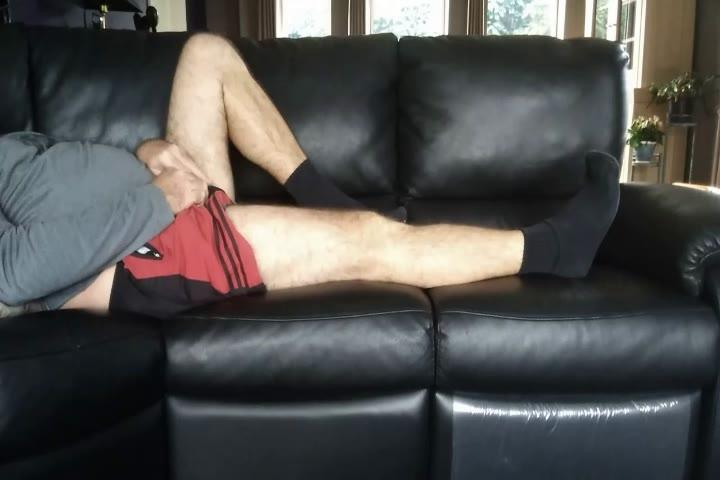lowerbody: (109, 21, 627, 327)
